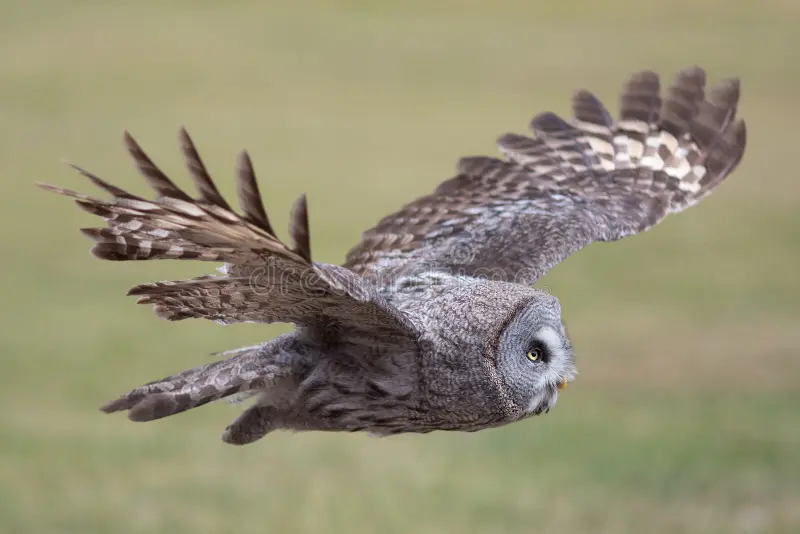owl: (47, 69, 732, 439)
